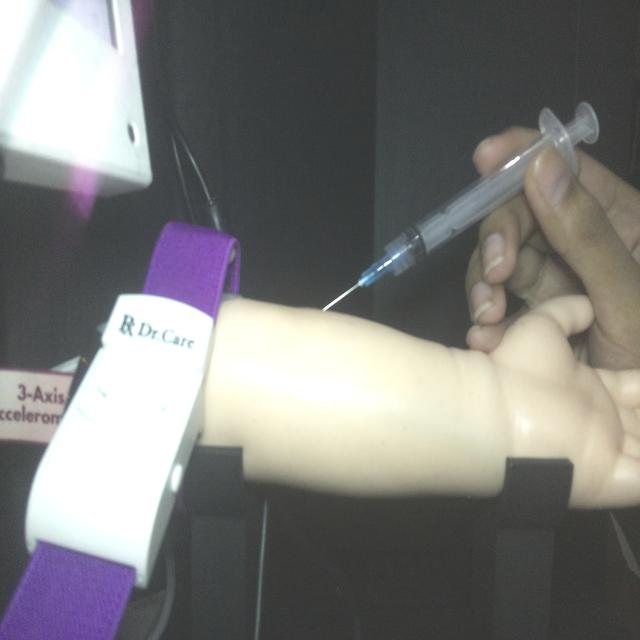28 degrees: (320, 98, 600, 314)
